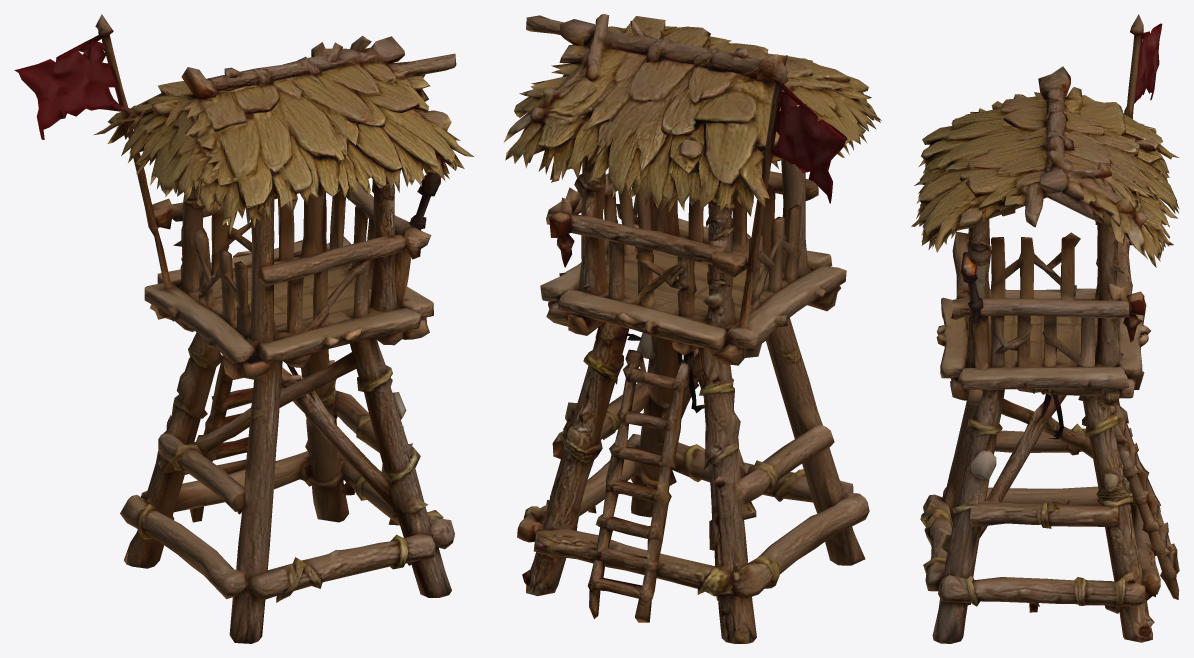
Rendered from watchtower.glb.
The picture shows the model from 3 angles, left to right: view 1: azimuth 30°, elevation 25°; view 2: azimuth 150°, elevation 25°; view 3: azimuth 270°, elevation 25°; orthographic projection. The views are drawn at different scales.
Parts seen in each view (by area): view 1: tripo_node_53248f7a-a7af-49d4-94a0-c50dcb6fea5c; view 2: tripo_node_53248f7a-a7af-49d4-94a0-c50dcb6fea5c; view 3: tripo_node_53248f7a-a7af-49d4-94a0-c50dcb6fea5c.
Boxes of the visible parts, x1,y1,x2,y2 form: tripo_node_53248f7a-a7af-49d4-94a0-c50dcb6fea5c: (14,14,473,643); tripo_node_53248f7a-a7af-49d4-94a0-c50dcb6fea5c: (503,14,881,643); tripo_node_53248f7a-a7af-49d4-94a0-c50dcb6fea5c: (911,14,1179,643).
Bounding box in the file's own units: 0.7011 × 1 × 0.4694.
Materials: 1 (1 with a texture image).
